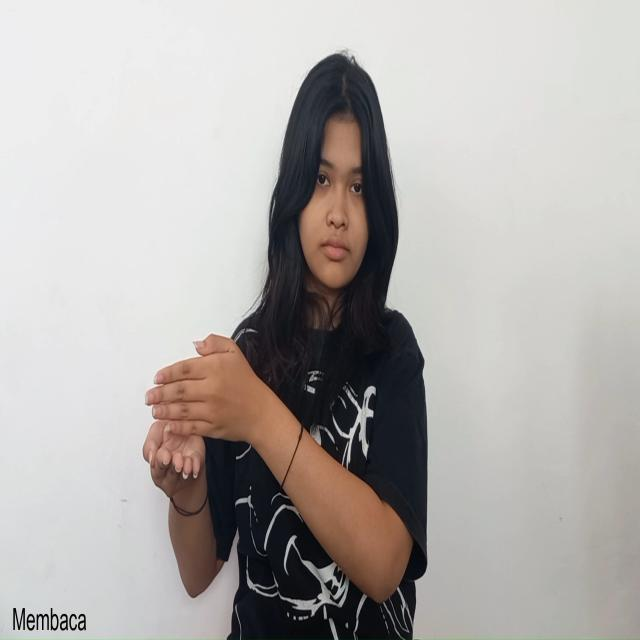Membaca -BISINDO-: (141, 330, 263, 504)
